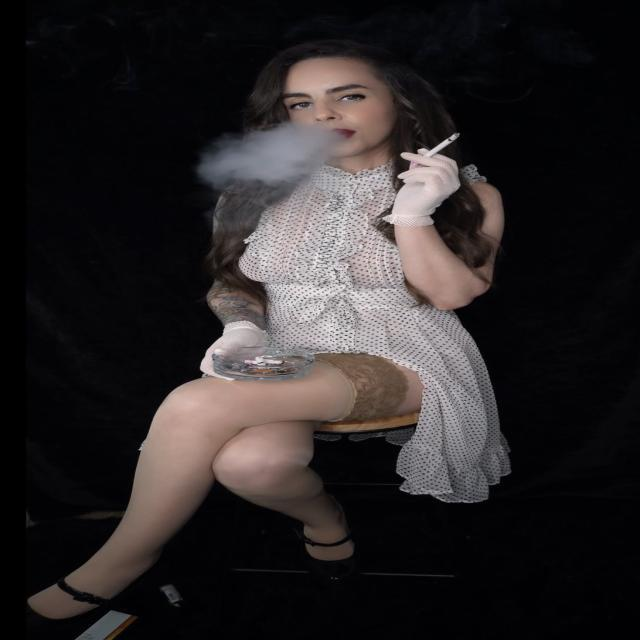rokok: (426, 132, 460, 160)
